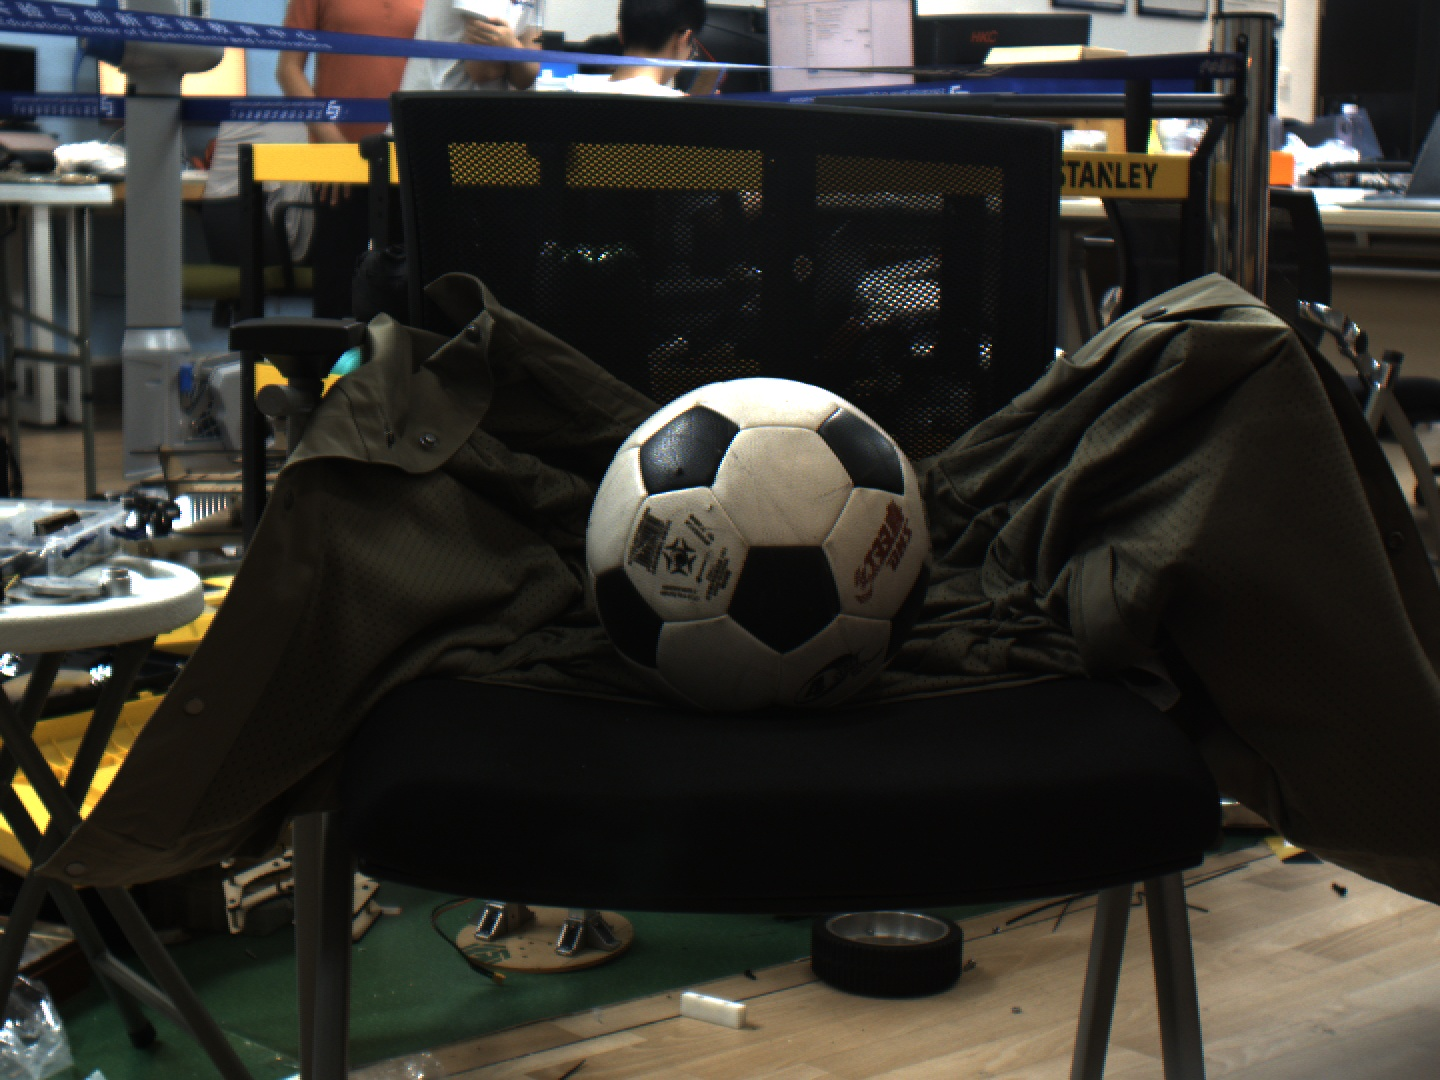ball: (570, 338, 949, 729)
